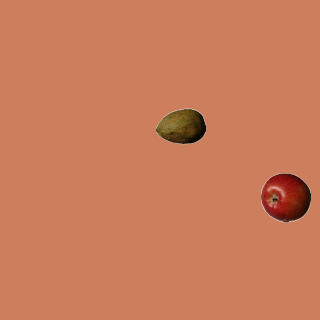Apple Braeburn: (260, 172, 310, 222)
Papaya: (155, 101, 205, 151)
